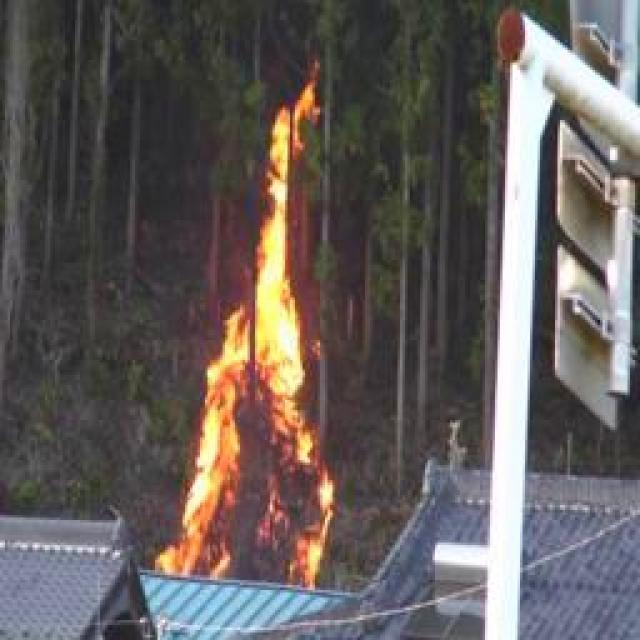Fire: (167, 86, 340, 589)
